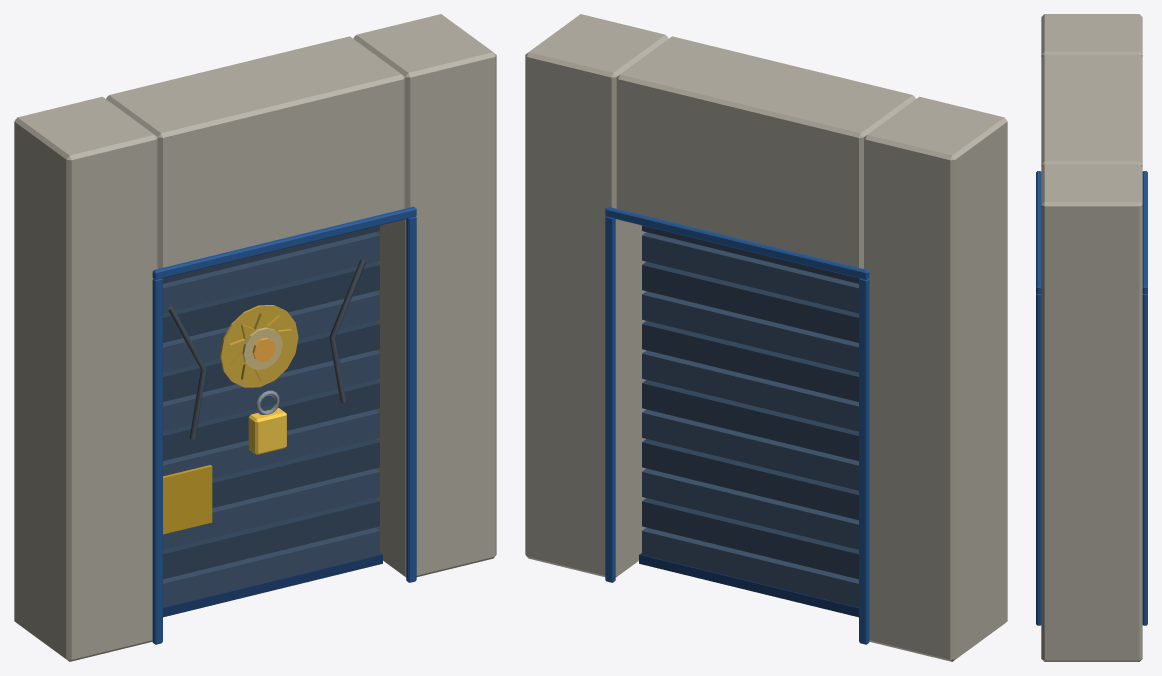
Rendered from door_locked.fbx.
3 renders of one model, left to right at view 1: azimuth 30°, elevation 25°; view 2: azimuth 150°, elevation 25°; view 3: azimuth 270°, elevation 25°, orthographic. The views are drawn at different scales.
Visible parts, largest first — view 1: door_locked, Door, Lock; view 2: door_locked, Door; view 3: door_locked.
Part boxes in pixels (x1=…): door_locked: x1=14, y1=14, x2=496, y2=661; Door: x1=163, y1=225, x2=382, y2=617; Lock: x1=167, y1=259, x2=365, y2=454; door_locked: x1=525, y1=14, x2=1007, y2=661; Door: x1=639, y1=225, x2=858, y2=617; door_locked: x1=1036, y1=14, x2=1147, y2=661.
Bounding box in the file's own units: 4 × 4.5 × 0.99.
